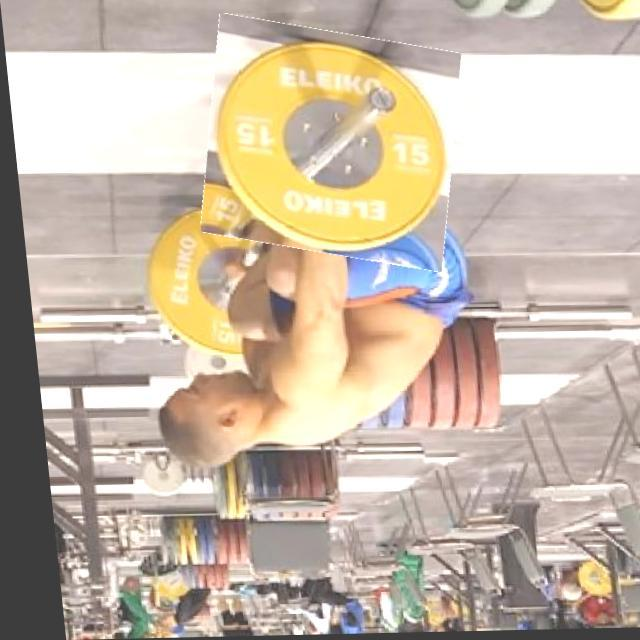barbell: (189, 21, 468, 268)
